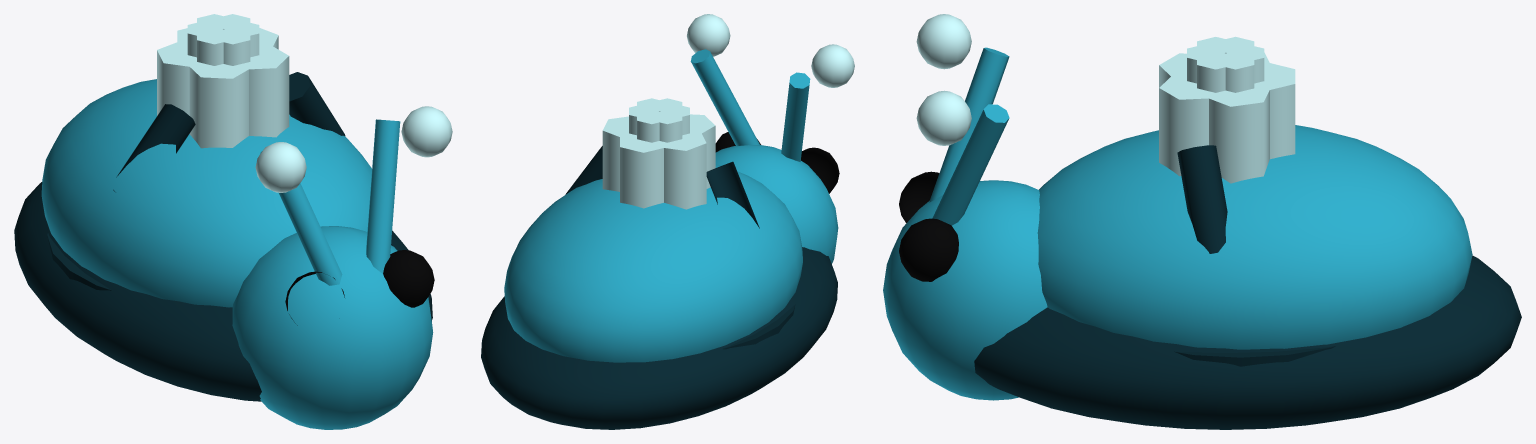
File: eterna.obj
3 views of the same model, side by side, from view 1: azimuth 30°, elevation 25°; view 2: azimuth 150°, elevation 25°; view 3: azimuth 270°, elevation 25° (orthographic). The views are drawn at different scales.
Bounding box in the file's own units: 0.496 × 0.4712 × 0.8023.
